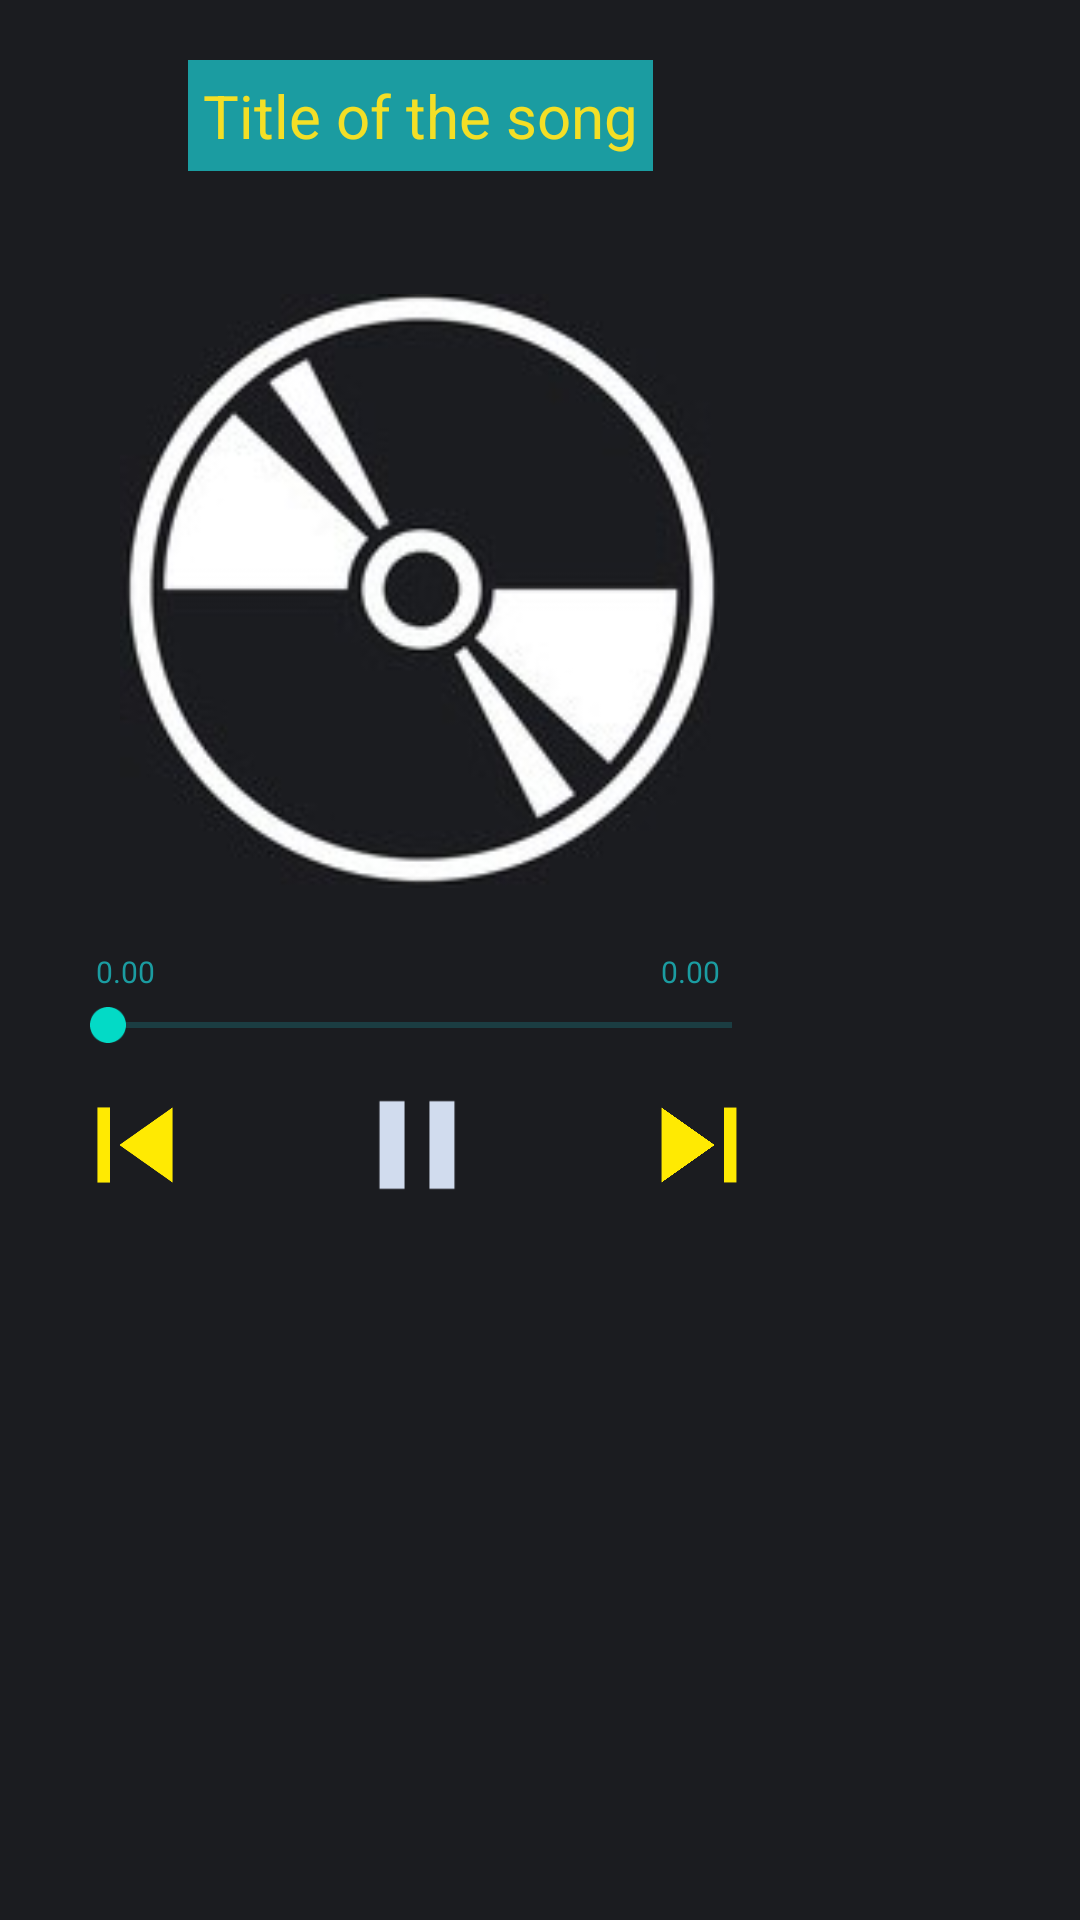

Screen size 1080×1920. Icon name, then its center in pixels as [x,y]:
next: [699,1145]
pause: [417,1145]
previous: [135,1145]
